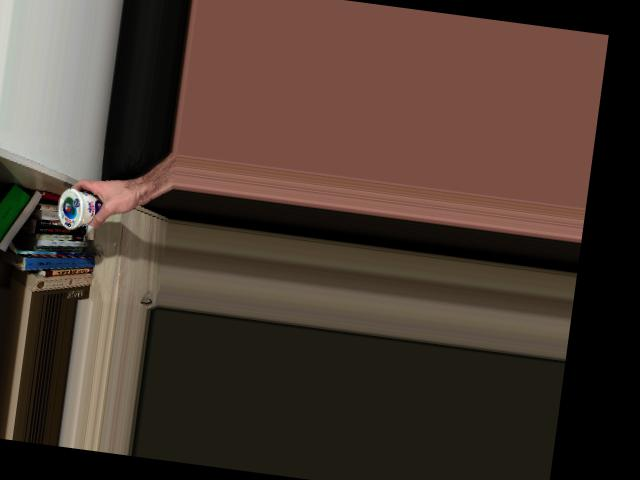cotage: (52, 182, 110, 234)
